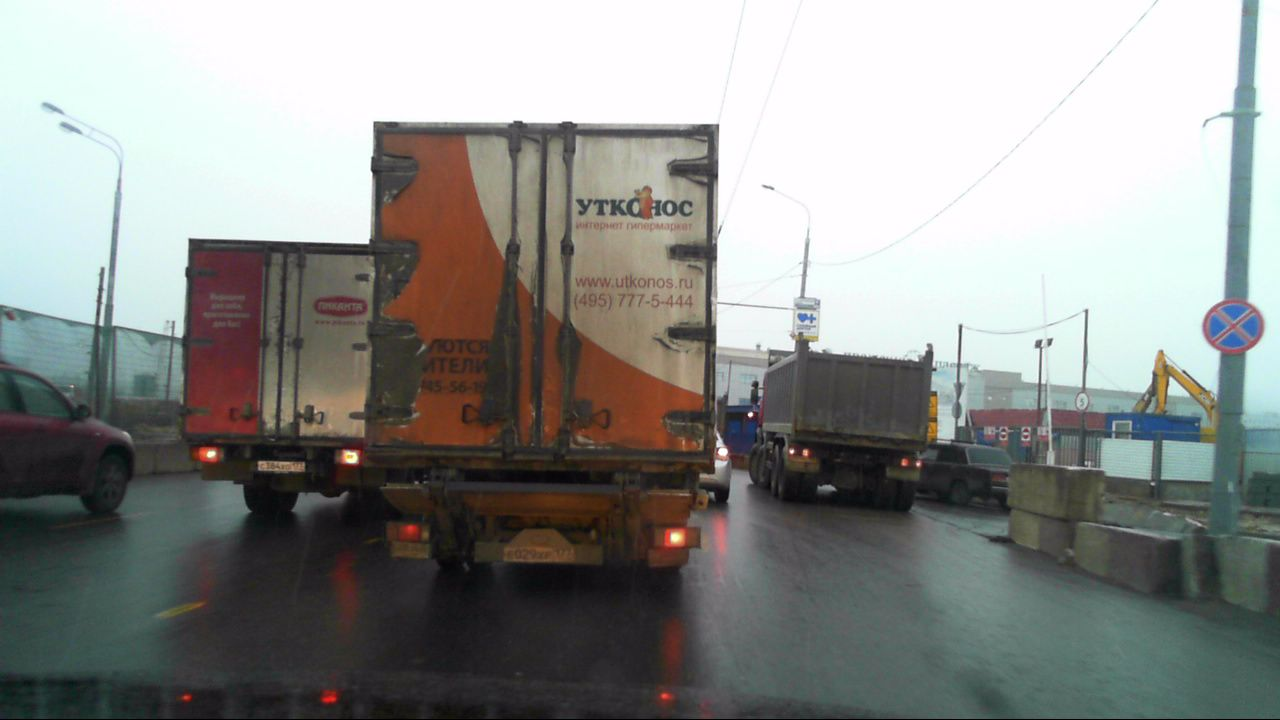No Parking: (1201, 298, 1264, 353)
